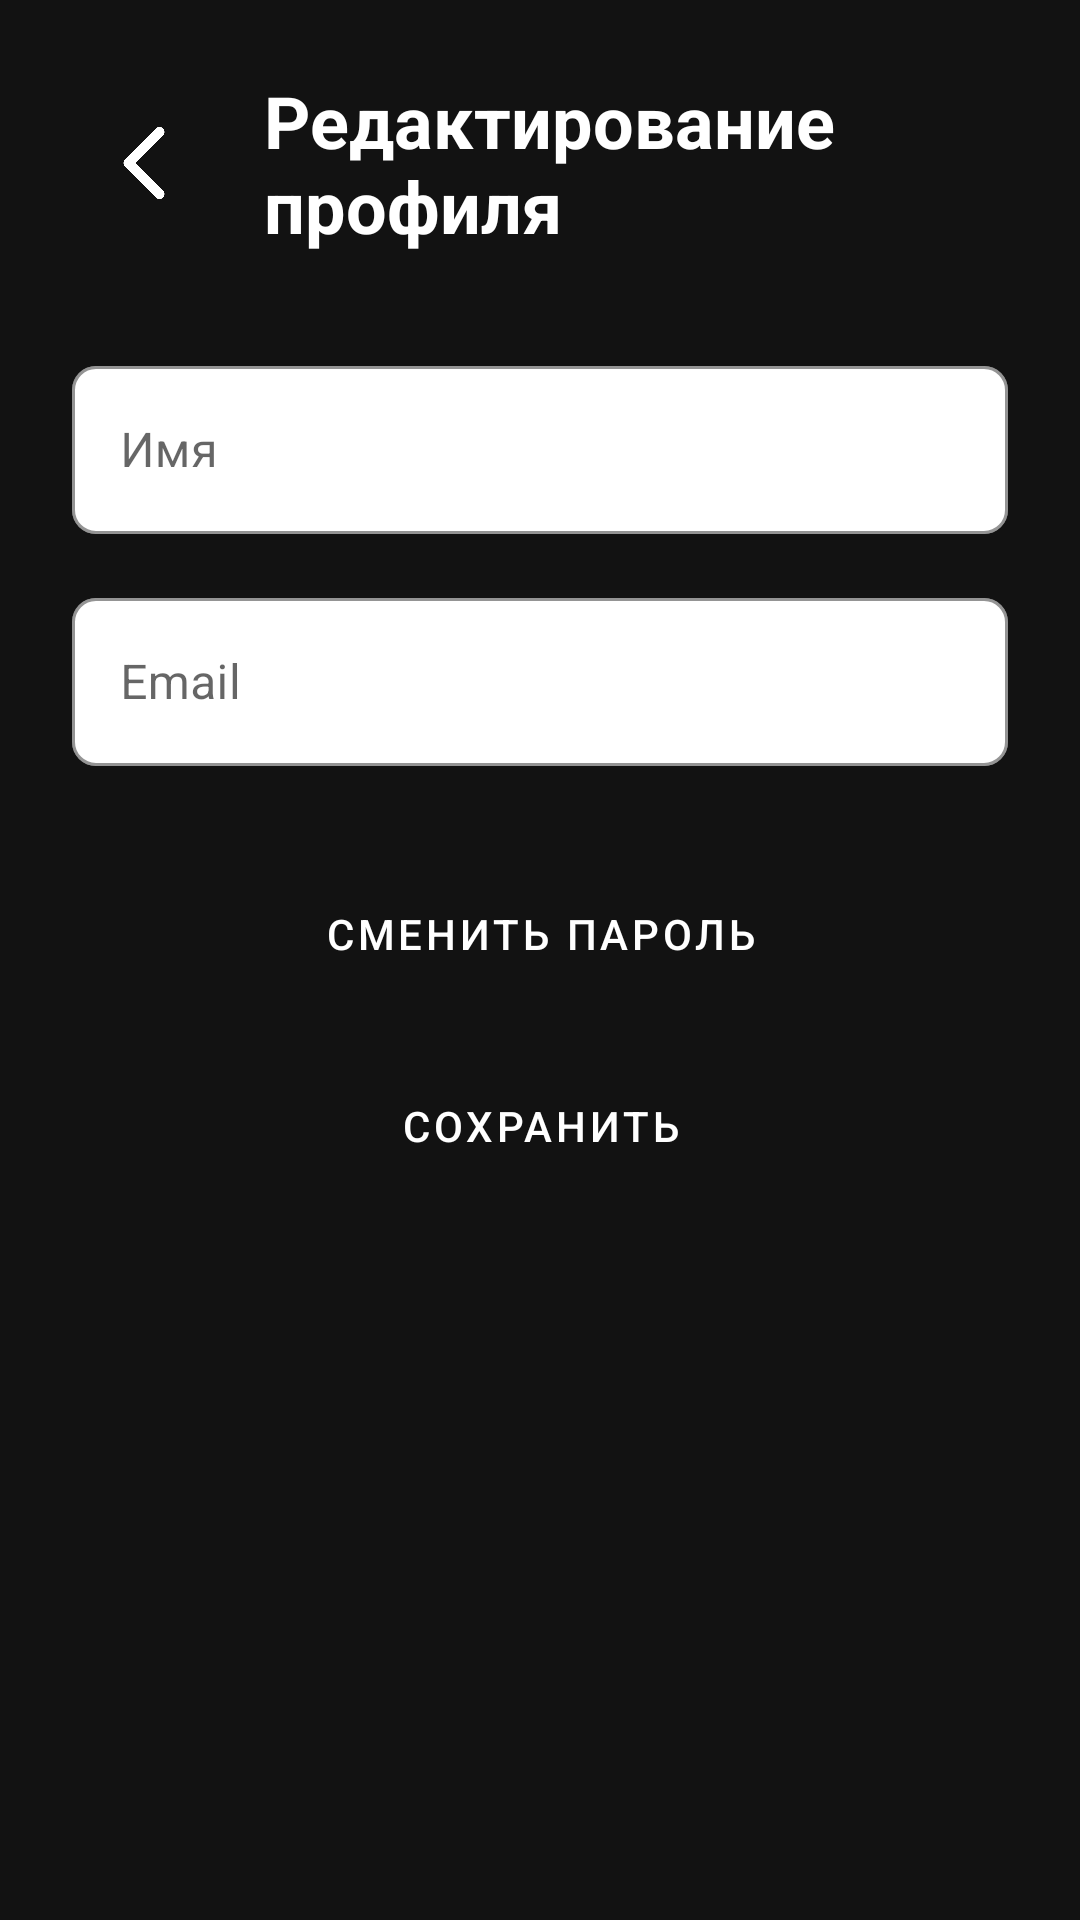

Where to tap for icons on this 1080×1920 app screen, as [x,y]:
Назад: [144,163]
